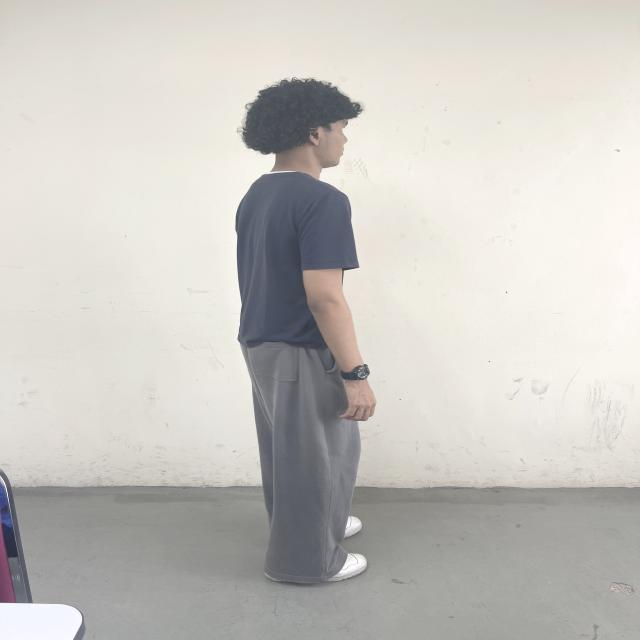person_without_labcoat: (236, 78, 376, 583)
